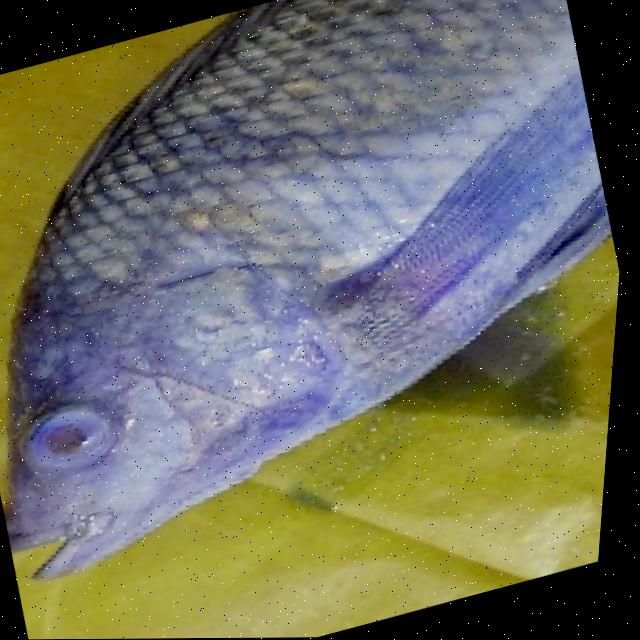Non-Fresh: (10, 374, 144, 499)
